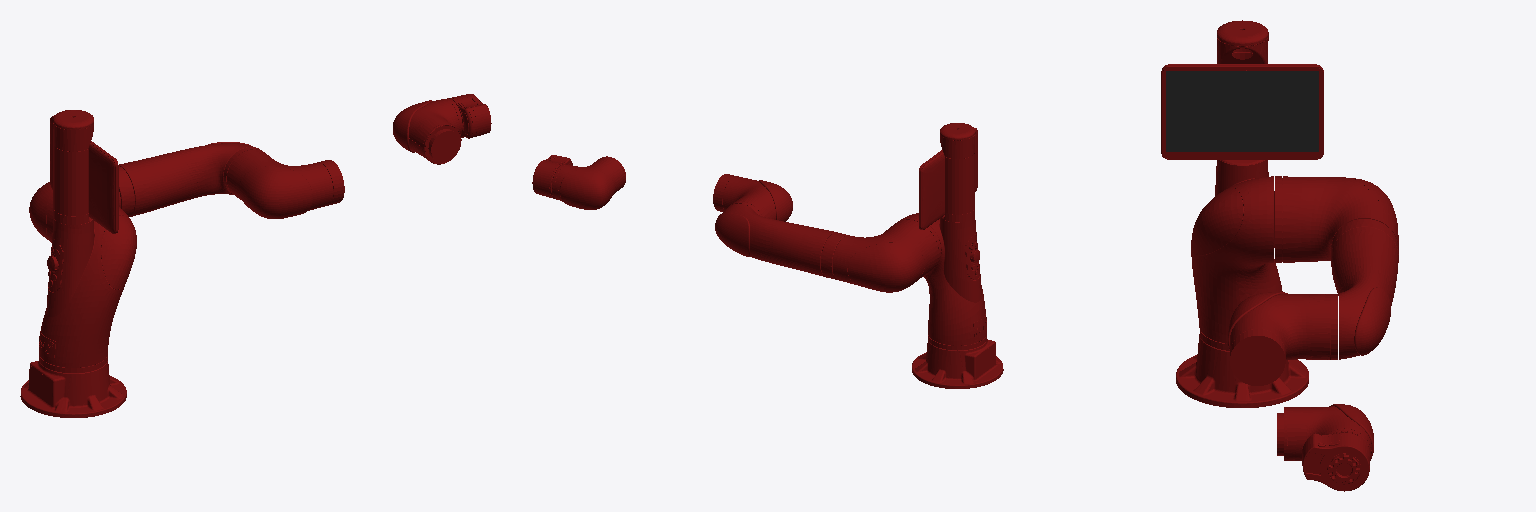
robot.urdf — sawyer:
<?xml version="1.0" ?>
<!-- =================================================================================== -->
<!-- |    This document was autogenerated by xacro from ./urdf.xacro                   | -->
<!-- |    EDITING THIS FILE BY HAND IS NOT RECOMMENDED                                 | -->
<!-- =================================================================================== -->
<robot name="sawyer" xmlns:xacro="http://www.ros.org/wiki/xacro">
  <material name="black">
    <color rgba="0 0 0 1"/>
  </material>

  <material name="black_trans">
    <color rgba="0 0 0 0.5"/>
  </material>
  <material name="darkgray">
    <color rgba=".2 .2 .2 1"/>
  </material>
  <material name="darkred">
    <color rgba=".5 .1 .1 1"/>
  </material>
  <material name="sawyer_red">
    <color rgba=".5 .1 .1 1"/>
  </material>
  <material name="sawyer_gray">
    <color rgba="0.75294 0.75294 0.75294 1"/>
  </material>
  <link name="base"/>
  <!-- <link name="torso">
    <visual>
      <origin rpy="0 0 0" xyz="0 0 0"/>
      <geometry>
        <box size="0 0 0"/>
      </geometry>
      <material name="darkgray">
        <color rgba=".2 .2 .2 1"/>
      </material>
    </visual>
    <inertial>
      <origin rpy="0 0 0" xyz="0.000000 0.000000 0.000000"/>
      <mass value="0.0001"/>
      <inertia ixx="1e-08" ixy="0" ixz="0" iyy="1e-08" iyz="0" izz="1e-08"/>
    </inertial>
  </link>
  <link name="pedestal">
    <visual>
      <origin rpy="1.57079632679 0 -1.57079632679" xyz="0.26 0.345 -0.91488"/>
      <geometry>
        <mesh filename="package://sawyer_description_openrave/meshes/sawyer_pv/pedestal.DAE"/>
      </geometry>
      <material name="darkgray"/>
    </visual>
    <collision>
      <origin rpy="0 0 0" xyz="0 0 -0.30"/>
      <geometry>
        <cylinder length="0.62" radius="0.18"/>
      </geometry>
    </collision>
    <inertial>
      <origin rpy="0 0 0" xyz="0 0 0"/>
      <mass value="60.86397744"/>
      <inertia ixx="5.0635929" ixy="0.00103417" ixz="0.80199628" iyy="6.08689388" iyz="0.00105311" izz="4.96191932"/>
    </inertial>
  </link>
  <link name="controller_box">
    <collision>
      <origin rpy="0 0 0" xyz="-0.325 0 -0.38"/>
      <geometry>
        <box size="0.22 0.4 0.53"/>
      </geometry>
    </collision>
  </link>
  <joint name="controller_box_fixed" type="fixed">
    <origin rpy="0 0 0" xyz="0.0 0.0 0.0"/>
    <parent link="base"/>
    <child link="controller_box"/>
  </joint>
  <link name="pedestal_feet">
    <collision>
      <origin rpy="0 0 0" xyz="-0.1225 0 -0.758"/>
      <geometry>
        <box size="0.77 0.7 0.31"/>
      </geometry>
    </collision>
  </link>
  <joint name="pedestal_feet_fixed" type="fixed">
    <origin rpy="0 0 0" xyz="0.0 0.0 0.0"/>
    <parent link="base"/>
    <child link="pedestal_feet"/>
  </joint>
  <joint name="torso_t0" type="fixed">
    <origin rpy="0 0 0" xyz="0 0 0"/>
    <parent link="base"/>
    <child link="torso"/>
  </joint>
  <joint name="pedestal_fixed" type="fixed">
    <origin rpy="0 0 0" xyz="0.0 0.0 0.0"/>
    <parent link="base"/>
    <child link="pedestal"/>
  </joint> -->
  <joint name="right_arm_mount" type="fixed">
    <origin rpy="0 0 0" xyz="0.0 0.0 0.0"/>
    <parent link="base"/>
    <child link="right_arm_base_link"/>
  </joint>
  <link name="right_arm_base_link">
    <inertial>
      <origin rpy="0 0 0" xyz="-0.0006241 -2.8025E-05 0.065404"/>
      <mass value="2.0687"/>
      <inertia ixx="0.0067599" ixy="-4.2024E-05" ixz="-6.1904E-07" iyy="0.0067877" iyz="1.5888E-05" izz="0.0074031"/>
    </inertial>
    <!-- <visual>
      <origin rpy="0 0 0" xyz="0 0 0.12"/>
      <geometry>
        <cylinder length="0.24" radius="0.11"/>
      </geometry>
      <material name="Cyan">
        <color rgba="0.0 1.0 1.0 0.5"/>
      </material>
    </visual> -->
    <visual>
      <origin rpy="0 0 0" xyz="0 0 0"/>
      <geometry>
        <mesh filename="package://sawyer_description_openrave/meshes/sawyer_pv/base.DAE"/>
      </geometry>
      <material name="sawyer_red"/>
    </visual>
    <collision>
      <origin rpy="0 0 0" xyz="0 0 0.12"/>
      <geometry>
        <cylinder length="0.24" radius="0.11"/>
      </geometry>
    </collision>
  </link>
  <link name="right_l0">
    <inertial>
      <origin rpy="0 0 0" xyz="0.024366 0.010969 0.14363"/>
      <mass value="5.3213"/>
      <inertia ixx="0.053314" ixy="0.0047093" ixz="0.011734" iyy="0.057902" iyz="0.0080179" izz="0.023659"/>
    </inertial>
    <visual>
      <origin rpy="0 0 0" xyz="0 0 0"/>
      <geometry>
        <mesh filename="package://sawyer_description_openrave/meshes/sawyer_mp3/l0.DAE"/>
      </geometry>
      <material name="sawyer_red"/>
    </visual>
    <collision>
      <origin rpy="0 0 0" xyz="0.081 0 0.237"/>
      <geometry>
        <sphere radius="0.07"/>
      </geometry>
    </collision>
  </link>
  <joint name="right_j0" type="revolute">
    <origin rpy="0 0 0" xyz="0 0 0.08"/>
    <parent link="right_arm_base_link"/>
    <child link="right_l0"/>
    <axis xyz="0 0 1"/>
    <limit effort="80.0" lower="-3.0503" upper="3.0503" velocity="1.74"/>
  </joint>
  <link name="head">
    <inertial>
      <origin rpy="0 0 0" xyz="0.0053207 -2.6549E-05 0.1021"/>
      <mass value="1.5795"/>
      <inertia ixx="0.011833" ixy="-4.4669E-06" ixz="4.9425E-05" iyy="0.0082709" iyz="4.2124E-07" izz="0.0049661"/>
    </inertial>
    <!-- <visual>
      <origin rpy="0 0 0" xyz="0 0 0.12"/>
      <geometry>
        <cylinder length="0.28" radius="0.065"/>
      </geometry>
      <material name="Cyan">
        <color rgba="0.0 1.0 1.0 0.5"/>
      </material>
    </visual> -->
    <visual>
      <origin rpy="0 0 0" xyz="0 0 0"/>
      <geometry>
        <mesh filename="package://sawyer_description_openrave/meshes/sawyer_pv/head.DAE"/>
      </geometry>
      <material name="sawyer_red"/>
    </visual>

    <!-- 
    <collision>
      <origin rpy="0 0 0" xyz="0 0 0.08"/>
      <geometry>
        <sphere radius="0.18"/>
      </geometry>
    </collision> -->
    <collision>
      <origin rpy="0 0 0" xyz="0 0 0.12"/>
      <geometry>
        <cylinder length="0.28" radius="0.065"/>
      </geometry>
    </collision>
  </link>
  <joint name="head_pan" type="revolute">
    <origin rpy="0 0 0" xyz="0 0 0.2965"/>
    <parent link="right_l0"/>
    <child link="head"/>
    <axis xyz="0 0 1"/>
    <limit effort="8" lower="-5.1477" upper="0.9559" velocity="1.8"/>
  </joint>
  <link name="right_torso_itb">
    <inertial>
      <origin rpy="0 0 0" xyz="0.000000 0.000000 0.000000"/>
      <mass value="0.0001"/>
      <inertia ixx="1e-08" ixy="0" ixz="0" iyy="1e-08" iyz="0" izz="1e-08"/>
    </inertial>
  </link>
  <joint name="right_torso_itb" type="fixed">
    <origin rpy="0 -1.5708 0" xyz="-.055 0 .22"/>
    <parent link="right_l0"/>
    <child link="right_torso_itb"/>
    <axis xyz="0 0 1"/>
  </joint>
  <link name="right_l1">
    <inertial>
      <origin rpy="0 0 0" xyz="-0.0030849 -0.026811 0.092521"/>
      <mass value="4.505"/>
      <inertia ixx="0.022398" ixy="-0.00023986" ixz="-0.00029362" iyy="0.014613" iyz="-0.0060875" izz="0.017295"/>
    </inertial>
    <visual>
      <origin rpy="0 0 0" xyz="0 0 0"/>
      <geometry>
        <mesh filename="package://sawyer_description_openrave/meshes/sawyer_mp3/l1.DAE"/>
      </geometry>
      <material name="sawyer_red"/>
    </visual>
    <collision>
      <origin rpy="0 0 0" xyz="0 0 0.1225"/>
      <geometry>
        <sphere radius="0.07"/>
      </geometry>
    </collision>
  </link>
  <joint name="right_j1" type="revolute">
    <origin rpy="-1.5708 1.5708 0" xyz="0.081 0.05 0.237"/>
    <parent link="right_l0"/>
    <child link="right_l1"/>
    <axis xyz="0 0 1"/>
    <limit effort="80.0" lower="-3.8183" upper="2.2824" velocity="1.328"/>
  </joint>
  <link name="right_l2">
    <inertial>
      <origin rpy="0 0 0" xyz="-0.00016232 -0.015346 0.13445"/>
      <mass value="1.7251"/>
      <inertia ixx="0.025176" ixy="4.3031E-06" ixz="1.4564E-05" iyy="0.024982" iyz="-0.0033928" izz="0.0033798"/>
    </inertial>
    <visual>
      <origin rpy="0 0 0" xyz="0 0 0"/>
      <geometry>
        <mesh filename="package://sawyer_description_openrave/meshes/sawyer_pv/l2.DAE"/>
      </geometry>
      <material name="sawyer_red"/>
    </visual>
    <collision>
      <origin rpy="0 0 0" xyz="0 0 0.08"/>
      <geometry>
        <cylinder length="0.34" radius="0.06"/>
      </geometry>
    </collision>
  </link>
  <joint name="right_j2" type="revolute">
    <origin rpy="1.5708 0 0" xyz="0 -0.14 0.1425"/>
    <parent link="right_l1"/>
    <child link="right_l2"/>
    <axis xyz="0 0 1"/>
    <limit effort="40.0" lower="-3.0514" upper="3.0514" velocity="1.957"/>
  </joint>
  <link name="right_l3">
    <inertial>
      <origin rpy="0 0 0" xyz="-0.0046678 -0.028394 -0.083127"/>
      <mass value="2.4743"/>
      <inertia ixx="0.0099549" ixy="-1.7675E-05" ixz="0.00027521" iyy="0.0064248" iyz="0.0030853" izz="0.0067746"/>
    </inertial>
    <!-- <visual>
      <origin rpy="0 0 0" xyz="0 -0.01 -0.12"/>
      <geometry>
        <sphere radius="0.06"/>
      </geometry>
      <material name="Cyan">
        <color rgba="0.0 1.0 1.0 0.5"/>
      </material>
    </visual> -->
    <visual>
      <origin rpy="0 0 0" xyz="0 0 0"/>
      <geometry>
        <mesh filename="package://sawyer_description_openrave/meshes/sawyer_pv/l3.DAE"/>
      </geometry>
      <material name="sawyer_red"/>
    </visual>
    <collision>
      <origin rpy="0 0 0" xyz="0 -0.01 -0.12"/>
      <geometry>
        <sphere radius="0.06"/>
      </geometry>
    </collision>
  </link>
  <joint name="right_j3" type="revolute">
    <origin rpy="-1.5708 0 0" xyz="0 -0.042 0.26"/>
    <parent link="right_l2"/>
    <child link="right_l3"/>
    <axis xyz="0 0 1"/>
    <limit effort="40.0" lower="-3.0514" upper="3.0514" velocity="1.957"/>
  </joint>
  <link name="right_l4">
    <inertial>
      <origin rpy="0 0 0" xyz="-0.0027794 0.0076558 0.13273"/>
      <mass value="1.0433"/>
      <inertia ixx="0.012913" ixy="2.573E-05" ixz="0.00017705" iyy="0.012939" iyz="0.0011152" izz="0.0012405"/>
    </inertial>
    <!-- <visual>
      <origin rpy="0 0 0" xyz="0 0 0.11"/>
      <geometry>
        <cylinder length="0.30" radius="0.045"/>
      </geometry>
      <material name="Cyan">
        <color rgba="0.0 1.0 1.0 0.5"/>
      </material>
    </visual> -->
    <visual>
      <origin rpy="0 0 0" xyz="0 0 0"/>
      <geometry>
        <mesh filename="package://sawyer_description_openrave/meshes/sawyer_pv/l4.DAE"/>
      </geometry>
      <material name="sawyer_red"/>
    </visual>
    <collision>
      <origin rpy="0 0 0" xyz="0 0 0.11"/>
      <geometry>
        <cylinder length="0.30" radius="0.045"/>
      </geometry>
    </collision>
  </link>
  <joint name="right_j4" type="revolute">
    <origin rpy="1.5708 0 0" xyz="0 -0.125 -0.1265"/>
    <parent link="right_l3"/>
    <child link="right_l4"/>
    <axis xyz="0 0 1"/>
    <limit effort="9.0" lower="-2.9842" upper="2.9842" velocity="3.485"/>
  </joint>
  <link name="right_arm_itb">
    <inertial>
      <origin rpy="0 0 0" xyz="0.000000 0.000000 0.000000"/>
      <mass value="0.0001"/>
      <inertia ixx="1e-08" ixy="0" ixz="0" iyy="1e-08" iyz="0" izz="1e-08"/>
    </inertial>
  </link>
  <joint name="right_arm_itb" type="fixed">
    <origin rpy="0 -1.5708 0" xyz="-.055 0 .075"/>
    <parent link="right_l4"/>
    <child link="right_arm_itb"/>
    <axis xyz="0 0 1"/>
  </joint>
  <link name="right_l5">
    <inertial>
      <origin rpy="0 0 0" xyz="0.0062067 -0.024291 0.075564"/>
      <mass value="1.5343"/>
      <inertia ixx="0.0046072" ixy="0.00012002" ixz="5.3065E-05" iyy="0.0028725" iyz="-0.0011886" izz="0.003101"/>
    </inertial>
    <visual>
      <origin rpy="0 0 0" xyz="0 0 0"/>
      <geometry>
        <mesh filename="package://sawyer_description_openrave/meshes/sawyer_pv/l5.DAE"/>
      </geometry>
      <material name="sawyer_red"/>
    </visual>
    <collision>
      <origin rpy="0 0 0" xyz="0 0 0.1"/>
      <geometry>
        <sphere radius="0.06"/>
      </geometry>
    </collision>
  </link>
  <joint name="right_j5" type="revolute">
    <origin rpy="-1.5708 0 0" xyz="0 0.031 0.275"/>
    <parent link="right_l4"/>
    <child link="right_l5"/>
    <axis xyz="0 0 1"/>
    <limit effort="9.0" lower="-2.9842" upper="2.9842" velocity="3.485"/>
  </joint>
  <link name="right_hand_camera"/>
  <joint name="right_hand_camera" type="fixed">
    <origin rpy="0 1.5708 0" xyz="0.039552 -0.033 0.0695"/>
    <parent link="right_l5"/>
    <child link="right_hand_camera"/>
    <axis xyz="0 0 0"/>
  </joint>
  <link name="right_wrist"/>
  <joint name="right_wrist" type="fixed">
    <origin rpy="1.5708 0 0" xyz="0 0 0.10541"/>
    <parent link="right_l5"/>
    <child link="right_wrist"/>
    <axis xyz="0 0 0"/>
  </joint>
  <link name="right_l6">
    <inertial>
      <origin rpy="0 0 0" xyz="-8.0726E-06 0.0085838 -0.0049566"/>
      <mass value="0.3292"/>
      <inertia ixx="0.00031105" ixy="1.4771E-06" ixz="-3.7074E-07" iyy="0.00021549" iyz="-8.4533E-06" izz="0.00035976"/>
    </inertial>
    <visual>
      <origin rpy="0 0 0" xyz="0 0 0"/>
      <geometry>
        <mesh filename="package://sawyer_description_openrave/meshes/sawyer_mp1/l6.DAE"/>
      </geometry>
      <material name="sawyer_red"/>
    </visual>
    <collision>
      <origin rpy="0 0 0" xyz="0 0.015 -0.01"/>
      <geometry>
        <cylinder length="0.05" radius="0.055"/>
      </geometry>
    </collision>
  </link>
  <joint name="right_j6" type="revolute">
    <origin rpy="-1.5708 -0.17453 3.1416" xyz="0 -0.11 0.1053"/>
    <parent link="right_l5"/>
    <child link="right_l6"/>
    <axis xyz="0 0 1"/>
    <limit effort="9.0" lower="-4.7104" upper="4.7104" velocity="4.545"/>
  </joint>
<!--   <link name="right_hand">
    <collision>
      <origin rpy="0 0 0" xyz="0 0 0.02"/>
      <geometry>
        <cylinder length="0.0" radius="0.0"/>
      </geometry>
    </collision>
    <inertial>
      <origin rpy="0 0 0" xyz="1.0E-08 1.0E-08 1.0E-08"/>
      <mass value="1.0E-08"/>
      <inertia ixx="1.0E-08" ixy="1.0E-08" ixz="1.0E-08" iyy="1.0E-08" iyz="1.0E-08" izz="1.0E-08"/>
    </inertial>
  </link>
  <joint name="right_hand" type="fixed">
    <origin rpy="0 0 1.5708" xyz="0 0 0.0245"/>
    <axis xyz="0 0 1"/>
    <parent link="right_l6"/>
    <child link="right_hand"/>
  </joint> -->
  <link name="right_l1_2">
    <inertial>
      <origin rpy="0 0 0" xyz="1.0E-08 1.0E-08 1.0E-08"/>
      <mass value="1.0E-08"/>
      <inertia ixx="1.0E-08" ixy="1.0E-08" ixz="1.0E-08" iyy="1.0E-08" iyz="1.0E-08" izz="1.0E-08"/>
    </inertial>
    <collision>
      <origin rpy="0 0 0" xyz="0 0 0.035"/>
      <geometry>
        <cylinder length="0.14" radius="0.07"/>
      </geometry>
    </collision>
  </link>
  <joint name="right_j1_2" type="fixed">
    <origin rpy="0 0 0" xyz="0 0 0"/>
    <parent link="right_l1"/>
    <child link="right_l1_2"/>
    <axis xyz="0 0 1"/>
  </joint>
  <link name="right_l2_2">
    <inertial>
      <origin rpy="0 0 0" xyz="1.0E-08 1.0E-08 1.0E-08"/>
      <mass value="1.0E-08"/>
      <inertia ixx="1.0E-08" ixy="1.0E-08" ixz="1.0E-08" iyy="1.0E-08" iyz="1.0E-08" izz="1.0E-08"/>
    </inertial>
    <collision>
      <origin rpy="0 0 0" xyz="0 0 0.26"/>
      <geometry>
        <sphere radius="0.06"/>
      </geometry>
    </collision>
  </link>
  <joint name="right_j2_2" type="fixed">
    <origin rpy="0 0 0" xyz="0 0 0"/>
    <parent link="right_l2"/>
    <child link="right_l2_2"/>
    <axis xyz="0 0 1"/>
  </joint>
  <link name="right_l4_2">
    <inertial>
      <origin rpy="0 0 0" xyz="1.0E-08 1.0E-08 1.0E-08"/>
      <mass value="1.0E-08"/>
      <inertia ixx="1.0E-08" ixy="1.0E-08" ixz="1.0E-08" iyy="1.0E-08" iyz="1.0E-08" izz="1.0E-08"/>
    </inertial>
    <collision>
      <origin rpy="0 0 0" xyz="0 0.01 0.26"/>
      <geometry>
        <sphere radius="0.06"/>
      </geometry>
    </collision>
  </link>
  <joint name="right_j4_2" type="fixed">
    <origin rpy="0 0 0" xyz="0 0 0"/>
    <parent link="right_l4"/>
    <child link="right_l4_2"/>
    <axis xyz="0 0 1"/>
  </joint>  
  <link name="screen">
   <!--  <visual>
      <origin rpy="0 0 0" xyz="0 -0.005 -0.005"/>
      <geometry>
        <box size="0.32 0.22 0.1"/>
      </geometry>
      <material name="Cyan">
        <color rgba="0.0 1.0 1.0 0.5"/>
      </material>
    </visual> -->
    <visual>
      <origin rpy="0 0 0" xyz="0 0 0"/>
      <geometry>
        <box size="0.24 0.14 0.002"/>
      </geometry>
      <material name="darkgray"/>
    </visual>
    <collision>
      <origin rpy="0 0 0" xyz="0 -0.005 -0.005"/>
      <geometry>
        <box size="0.32 0.22 0.1"/>
      </geometry>
    </collision>
    <!-- <collision>
      <origin rpy="0 0 0" xyz="0 0 0"/>
      <geometry>
        <sphere radius="0.001"/>
      </geometry>
    </collision> -->
    <inertial>
      <origin rpy="0 0 0" xyz="0 0 0"/>
      <mass value="0.0001"/>
      <inertia ixx="1e-08" ixy="0" ixz="0" iyy="1e-08" iyz="0" izz="1e-08"/>
    </inertial>
  </link>
  <joint name="display_joint" type="fixed">
    <origin rpy="1.5708 0 1.5708" xyz="0.03 0.0 0.105"/>
    <parent link="head"/>
    <child link="screen"/>
  </joint>
  <link name="head_camera"/>
  <joint name="head_camera" type="fixed">
    <origin rpy="-2.1293 0 -1.5708" xyz="0.0228027 0 0.216572"/>
    <parent link="head"/>
    <child link="head_camera"/>
    <axis xyz="0 0 0"/>
  </joint>
</robot>

--- What the picture shows (computed from the rendered views, not written in the file) ---
Views: 3 orthographic renders of the robot side by side, from view 1: azimuth 30°, elevation 25°; view 2: azimuth 150°, elevation 25°; view 3: azimuth 270°, elevation 25°.
Model sawyer with 19 links and 18 joints (8 revolute, 10 fixed), rooted at base, posed all joints at 0.
Links seen in each view (by area): view 1: right_l0, head, right_l3, right_l2, right_arm_base_link, right_l5, right_l1, right_l6; view 2: right_l0, right_l1, head, right_l2, right_arm_base_link, right_l5, right_l3, right_l6; view 3: screen, right_l0, right_l3, right_l1, right_l2, head, right_arm_base_link, right_l6, right_l5.
Boxes of the visible links, x1,y1,x2,y2 form: right_l0: [39, 207, 136, 372]; head: [50, 110, 118, 233]; right_l3: [223, 147, 344, 218]; right_l2: [119, 142, 255, 216]; right_arm_base_link: [20, 360, 126, 417]; right_l5: [393, 98, 462, 164]; right_l1: [29, 166, 134, 242]; right_l6: [449, 94, 491, 138]; right_l0: [901, 213, 986, 350]; right_l1: [821, 218, 941, 292]; head: [919, 123, 977, 229]; right_l2: [715, 203, 834, 276]; right_arm_base_link: [912, 339, 1003, 388]; right_l5: [552, 156, 625, 209]; right_l3: [713, 174, 792, 221]; right_l6: [532, 155, 572, 198]; screen: [1166, 71, 1318, 151]; right_l0: [1191, 160, 1282, 350]; right_l3: [1228, 292, 1337, 385]; right_l1: [1274, 176, 1398, 262]; right_l2: [1331, 227, 1398, 359]; head: [1161, 20, 1323, 164]; right_arm_base_link: [1176, 334, 1308, 407]; right_l6: [1302, 431, 1370, 491]; right_l5: [1277, 404, 1373, 460].
Size in the robot's own frame: 1.12 by 0.3738 by 0.61 metres.
8 mesh visuals loaded from 9 distinct referenced files (8 Collada DAE); not drawn: 1 (reference not matched to a file when rendering).
